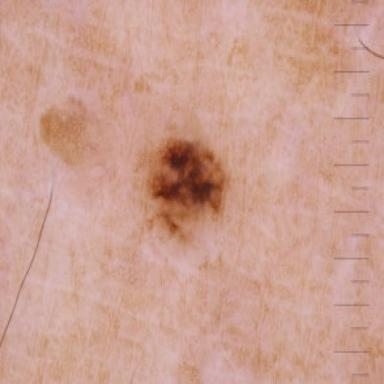Melanoma: (134, 138, 227, 241), (40, 97, 97, 165)
